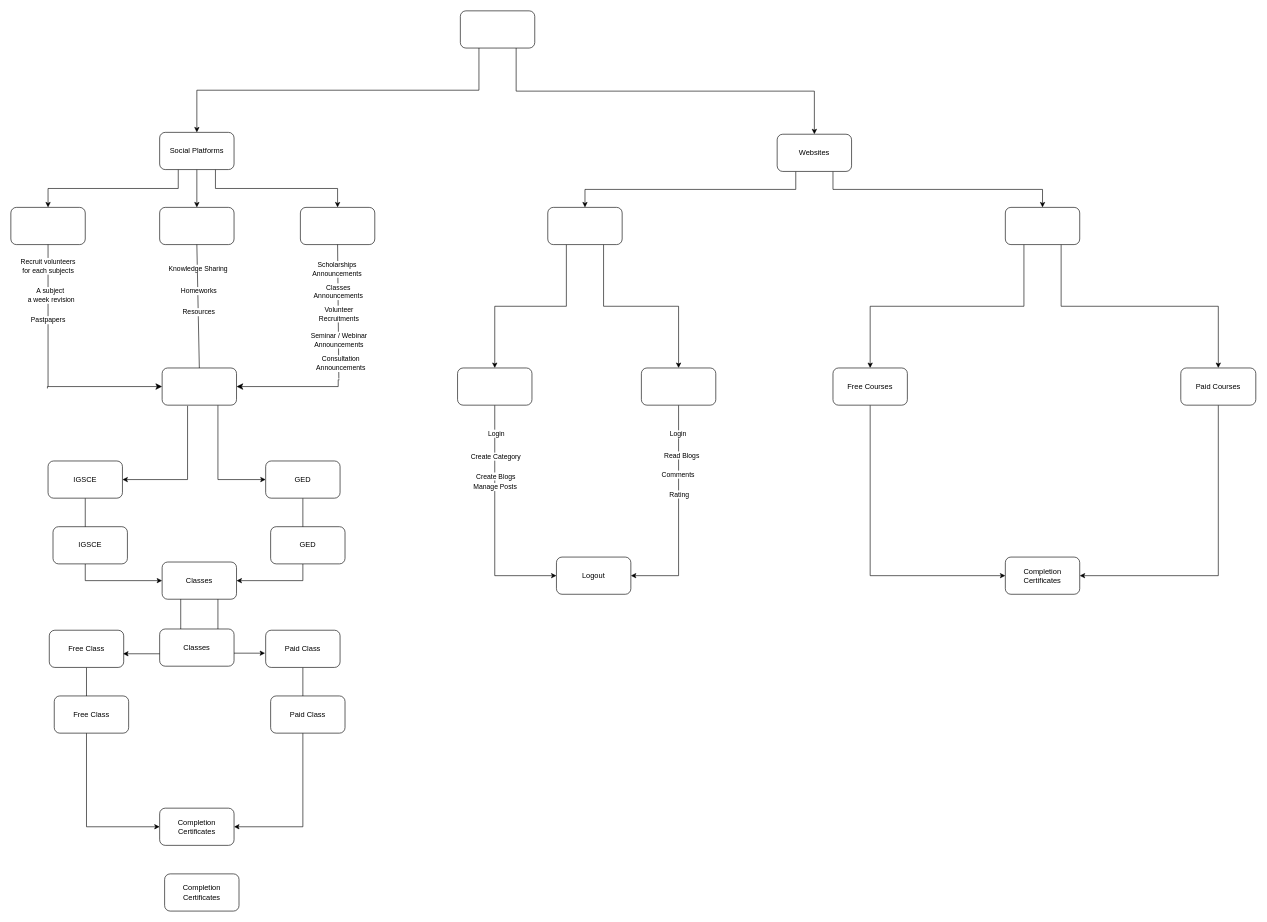
The diagram is 1267 pixels wide and 922 high, and some of its shapes have lost their labels. Here are the shapes that lost their labels. From the top down, the centre of each, then its label:
At [497,29]: "Organization".
At [47,226]: "Discord".
At [196,226]: "Telegram".
At [337,226]: "Facebook".
At [584,226]: "Blog Website".
At [1042,226]: "Online Courses Website".
At [199,386]: "Study Sessions".
At [494,386]: "Admin".
At [678,386]: "User".
